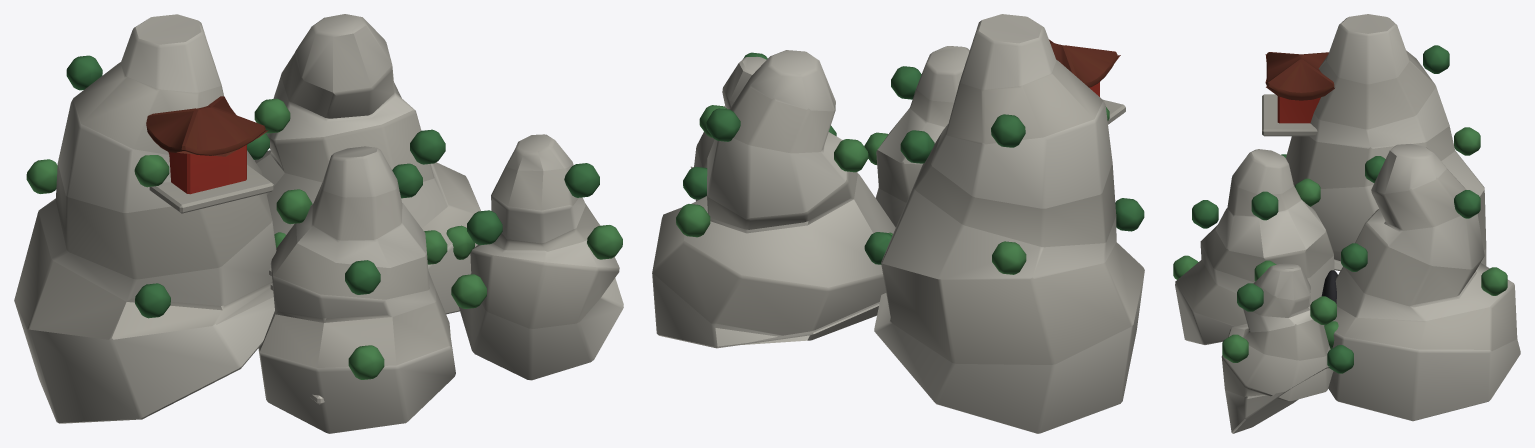
The model's file is lm-marble.glb.
The picture shows the model from 3 angles, left to right: view 1: azimuth 30°, elevation 25°; view 2: azimuth 150°, elevation 25°; view 3: azimuth 270°, elevation 25°; orthographic projection. The views are drawn at different scales.
Bounding box in the file's own units: 12.11 × 8.24 × 8.86.
